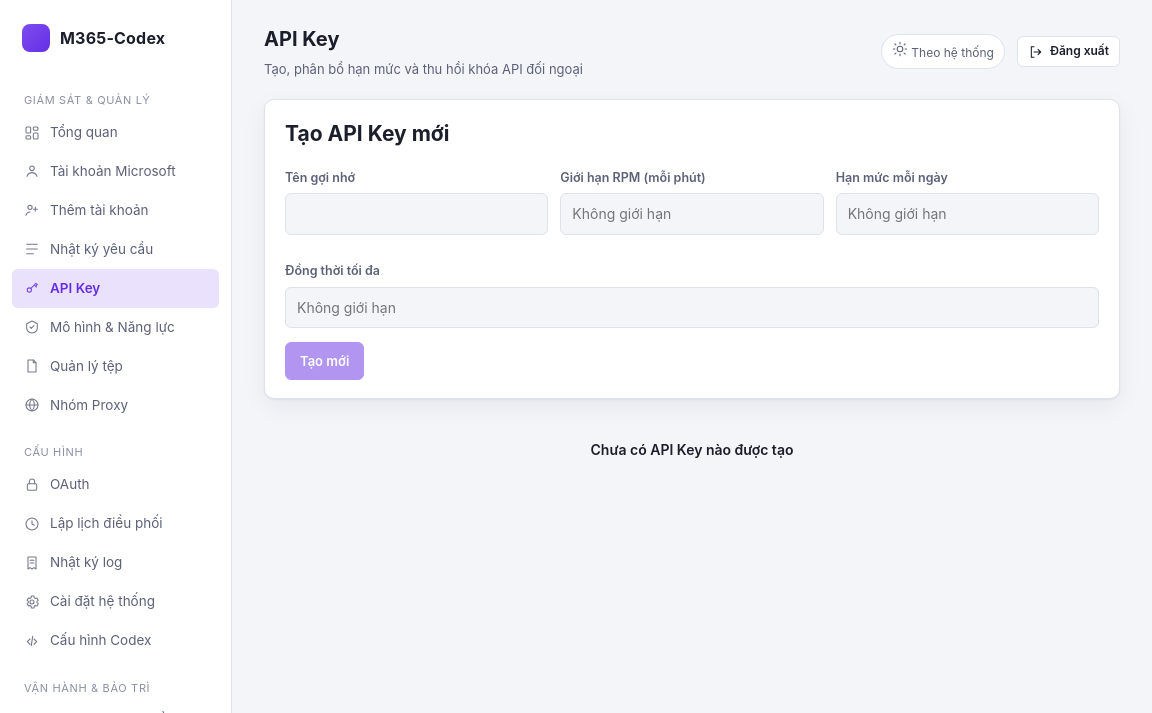
Khóa API dạng văn bản rõ chỉ hiển thị một lần › Sau khi tạo popup hiển thị khóa rõ, trước khi đóng phải tích chọn đã lưu, sau khi đóng danh sách chỉ còn khóa che
The width and height of the screenshot is (1152, 713).
In the field labelled "Tên gợi nhớ": (417, 214) [285, 194, 548, 235], type "Khóa thử nghiệm"
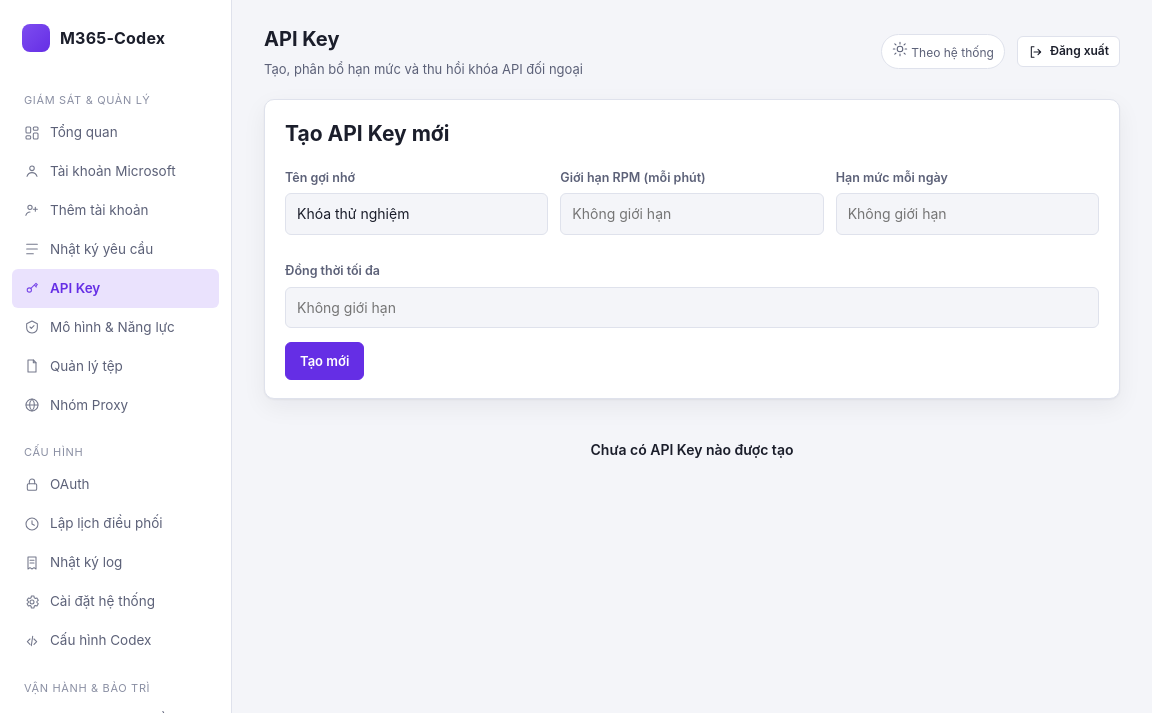
Click the button "Tạo mới": click(325, 361) [285, 342, 364, 380]
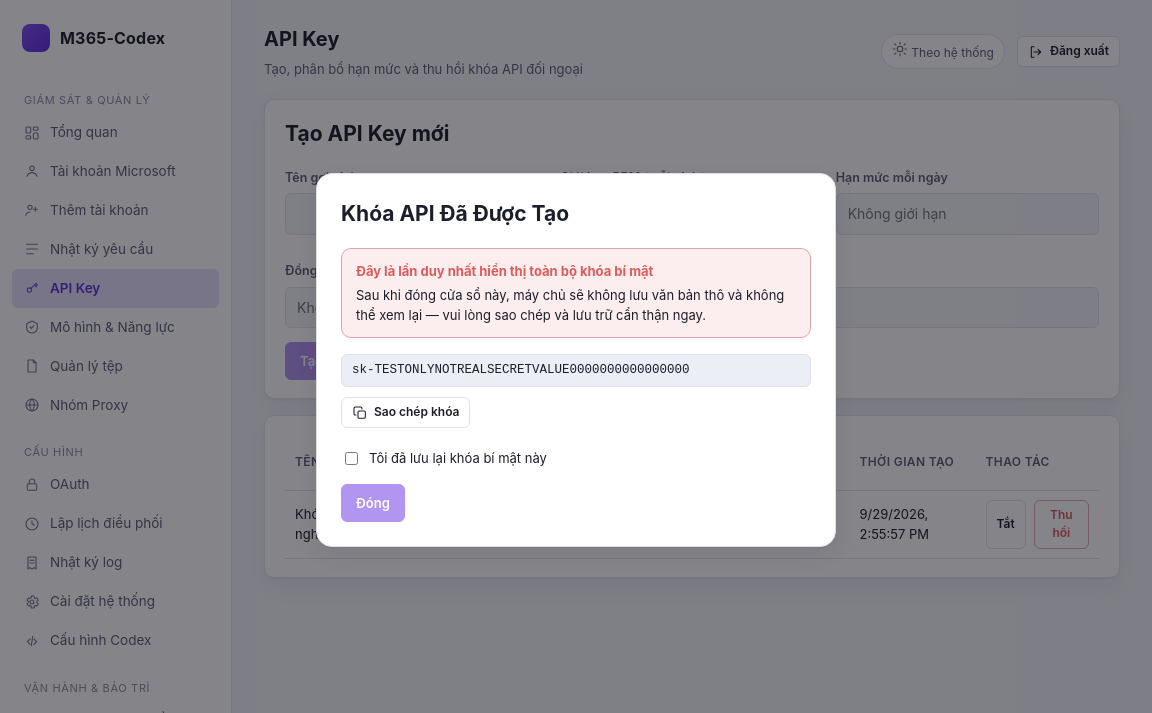
Check: the text "sk-TESTONLYNOTREALSECRETVALUE0000000000000000" is shown, box [352, 361, 690, 380]
Check: the text "Đây là lần duy nhất hiển thị toàn bộ khóa bí mật" is shown, box [356, 263, 653, 279]
Check: the button "Đóng" is disabled, box [341, 484, 405, 522]
Click the checkbox labelled "Tôi đã lưu lại khóa bí mật này": click(352, 458) [345, 452, 358, 465]
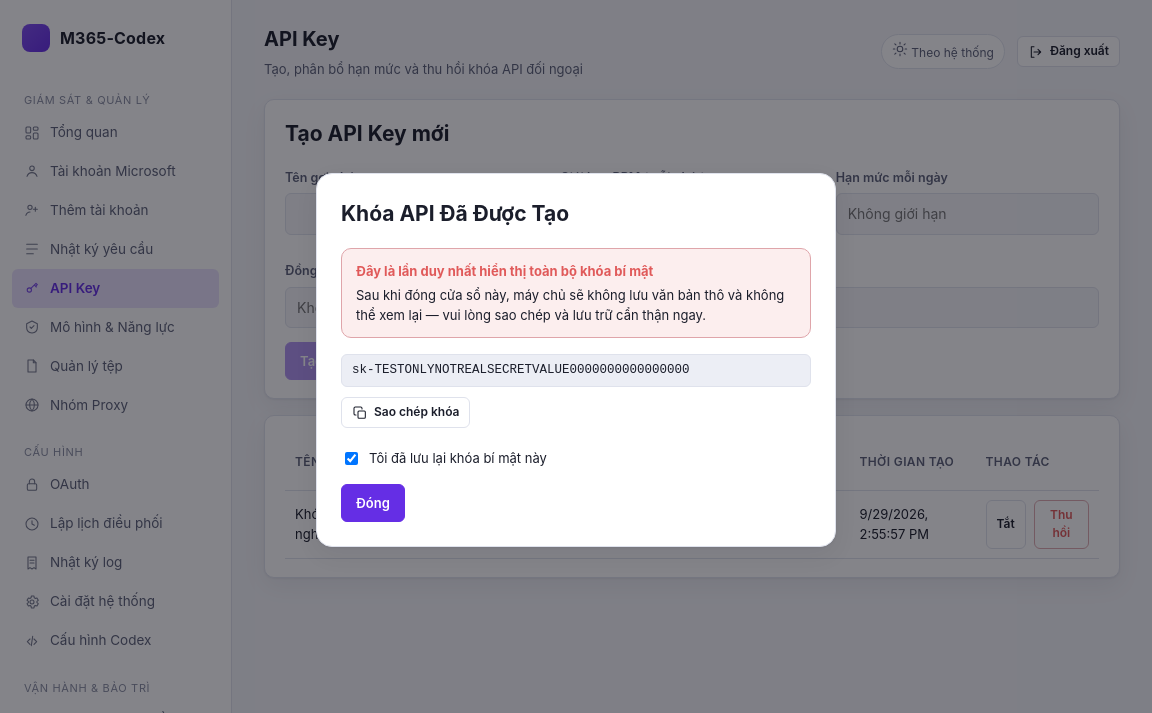
Check: the button "Đóng" is enabled
Click the button "Đóng": click(373, 503) [341, 484, 405, 522]
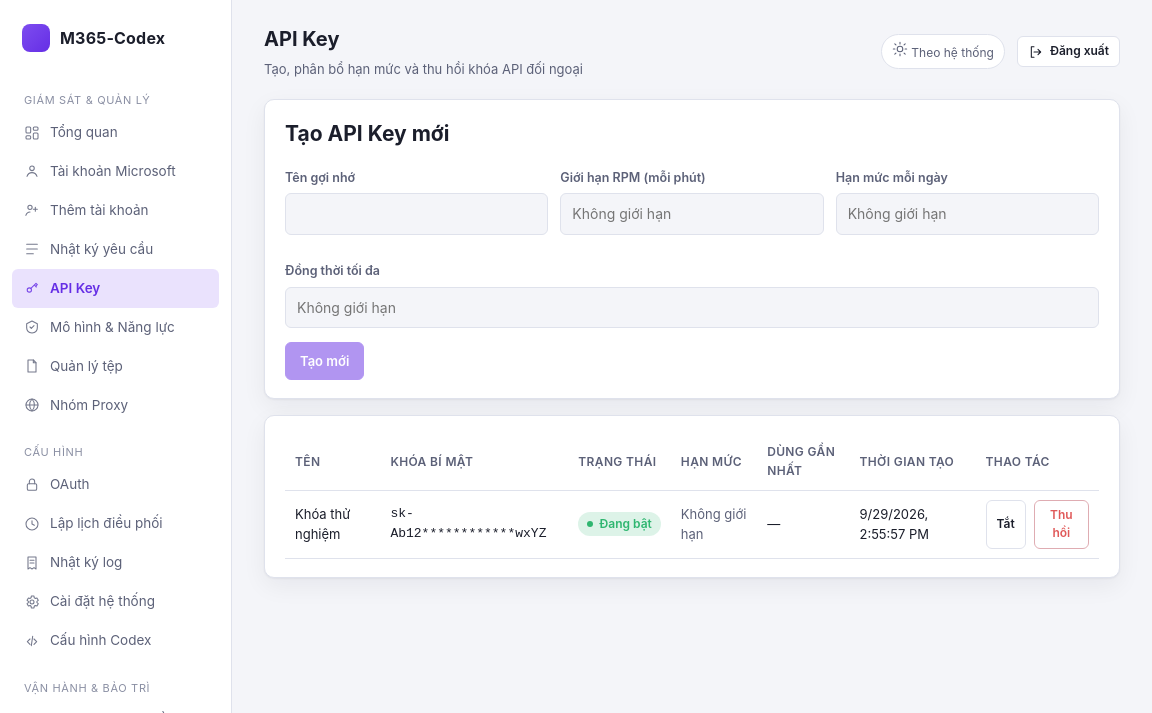
Check: the text "sk-Ab12************wxYZ" is shown, box [380, 490, 568, 558]
Check: the text "sk-TESTONLYNOTREALSECRETVALUE0000000000000000" is gone
